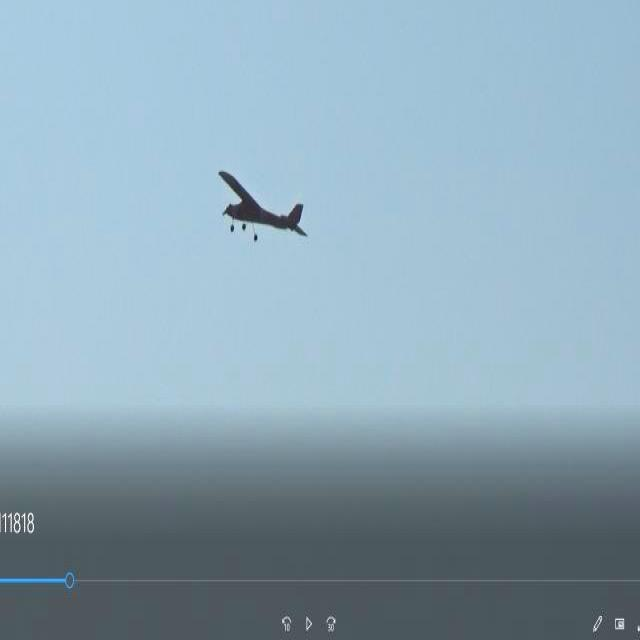iha: (242, 198, 280, 220)
